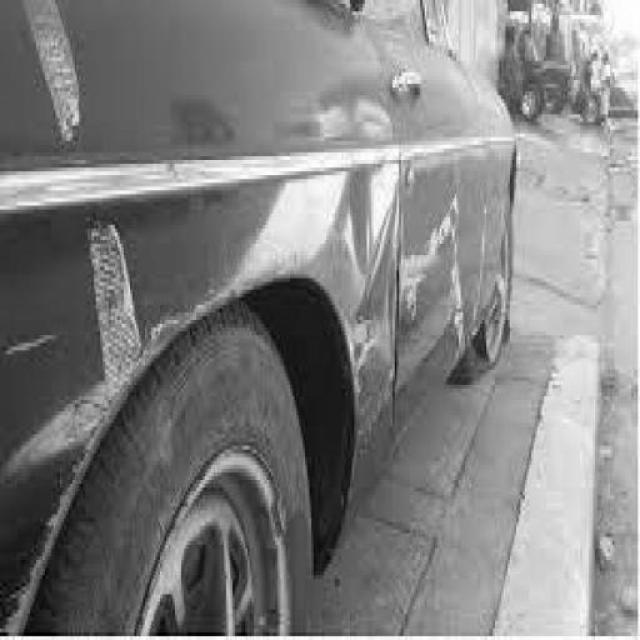dent: (306, 100, 400, 280)
scratch: (353, 220, 407, 422)
